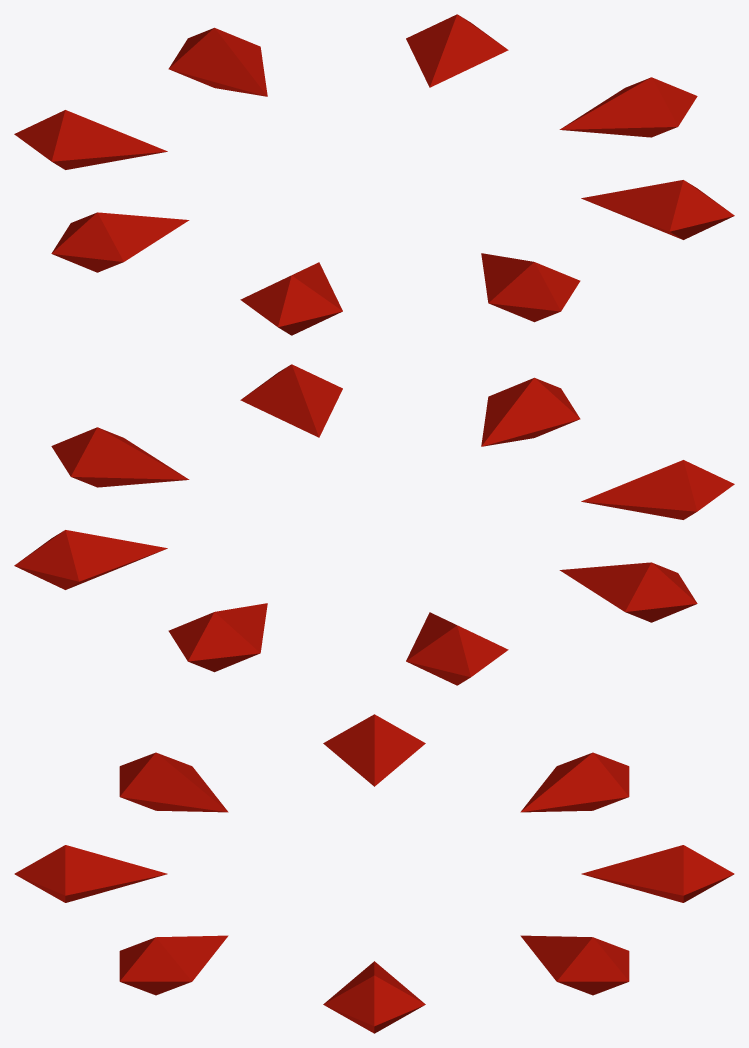
The model's file is cursor (1).fbx.
3 renders of one model, top to bottom at view 1: azimuth 30°, elevation 25°; view 2: azimuth 150°, elevation 25°; view 3: azimuth 270°, elevation 25°, orthographic. The views are drawn at different scales.
Visible parts, largest first — view 1: Circle.001, Circle.003, Circle.002, Circle.004; view 2: Circle.001, Circle.004, Circle.002, Circle.003; view 3: Circle.002, Circle.003, Circle.004, Circle.001.
Boxes of the visible parts, x1,y1,x2,y2 form: Circle.001: (51,77,697,272); Circle.003: (14,110,734,239); Circle.002: (168,27,580,322); Circle.004: (240,14,508,335); Circle.001: (51,427,697,622); Circle.004: (14,460,734,589); Circle.002: (168,377,580,672); Circle.003: (240,364,508,685); Circle.002: (14,845,734,902); Circle.003: (119,752,629,995); Circle.004: (119,752,629,995); Circle.001: (323,714,425,1033).
Size of the model in its own units: 92.12 by 8.22 by 92.12.
